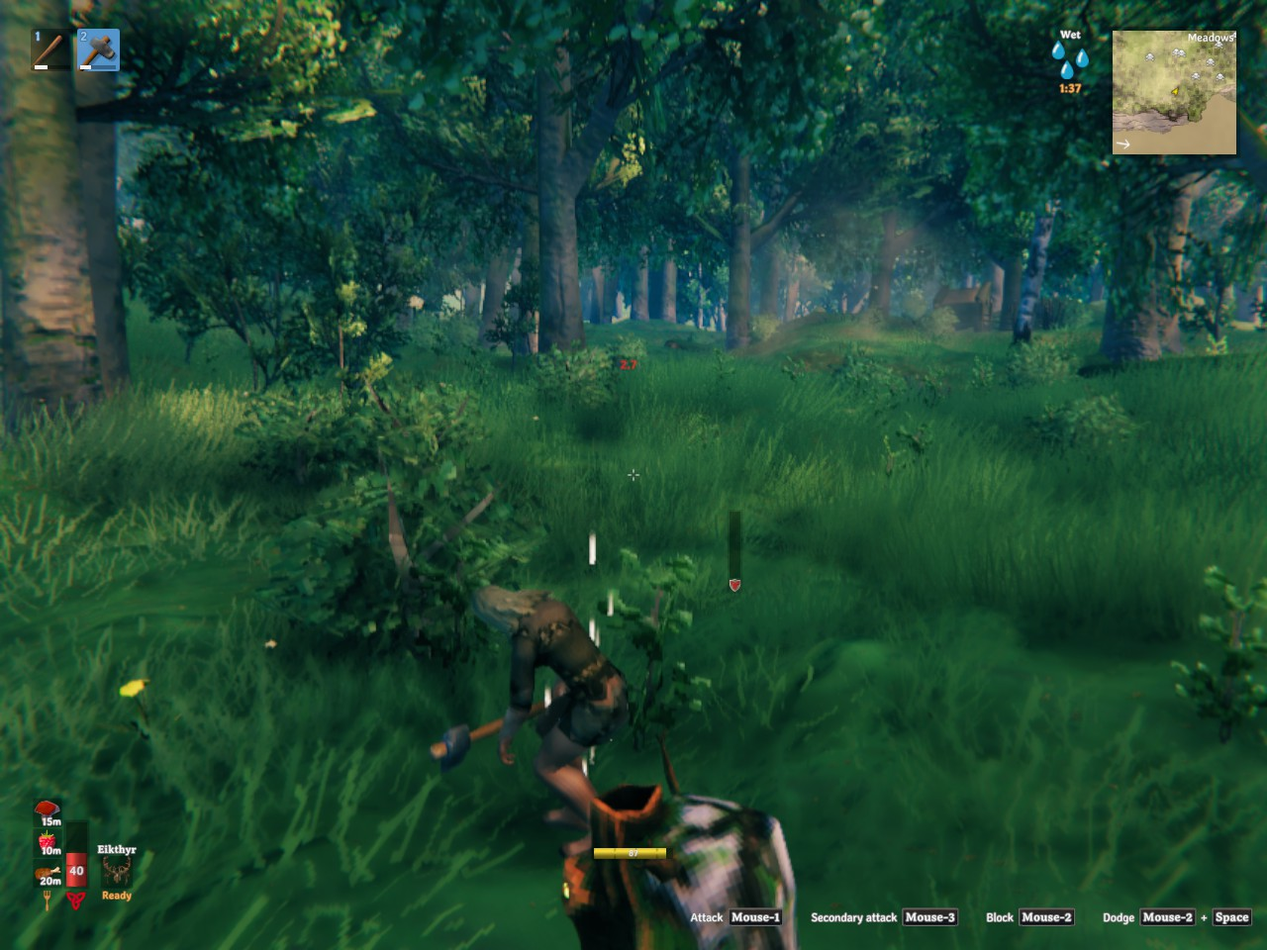Food Indicator: (36, 797, 63, 891)
Greyling: (562, 785, 799, 949)
Health Bar: (63, 820, 90, 891)
Hotbar: (25, 21, 398, 78)
Stamina Bar: (588, 844, 677, 865)
Status Indicator: (1042, 22, 1109, 101)
